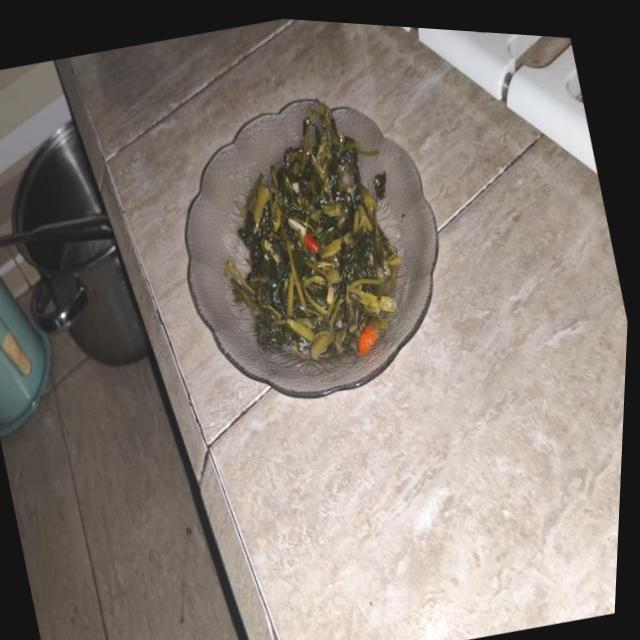tumis_kangkung: (238, 110, 400, 360)
